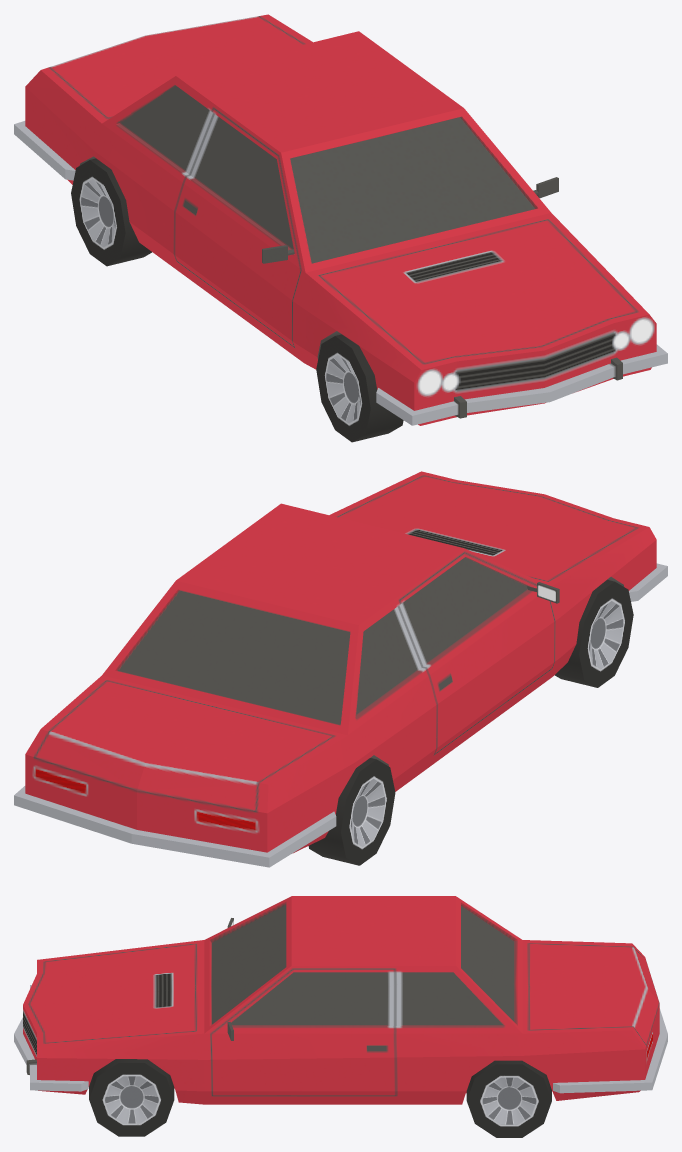
Rendered from Car3.glb.
3 views of the same model, one above another, from view 1: azimuth 30°, elevation 25°; view 2: azimuth 150°, elevation 25°; view 3: azimuth 270°, elevation 25° (orthographic). The views are drawn at different scales.
Visible parts, largest first — view 1: Object003; view 2: Object003; view 3: Object003.
Part boxes in pixels (<box>): Object003: <box>14,14,667,442</box>; Object003: <box>14,471,667,867</box>; Object003: <box>14,896,667,1137</box>.
Size of the model in its own units: 1.01 by 0.6466 by 2.47.
1 material, 1 textured.
